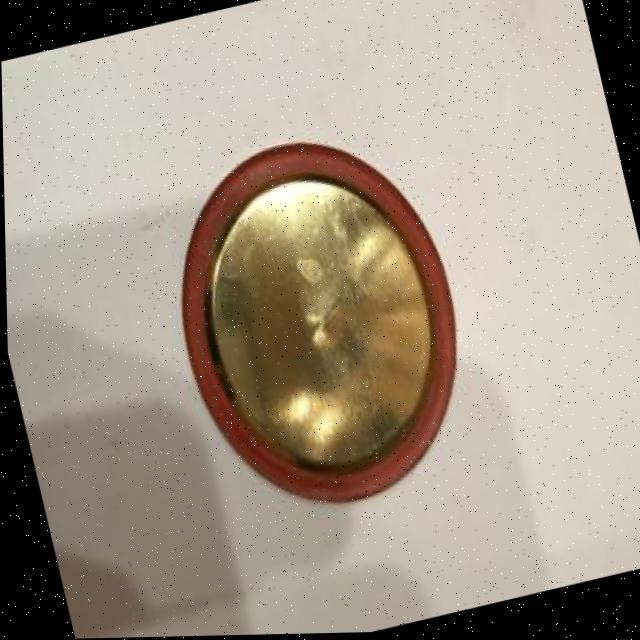metal: (137, 97, 492, 535)
